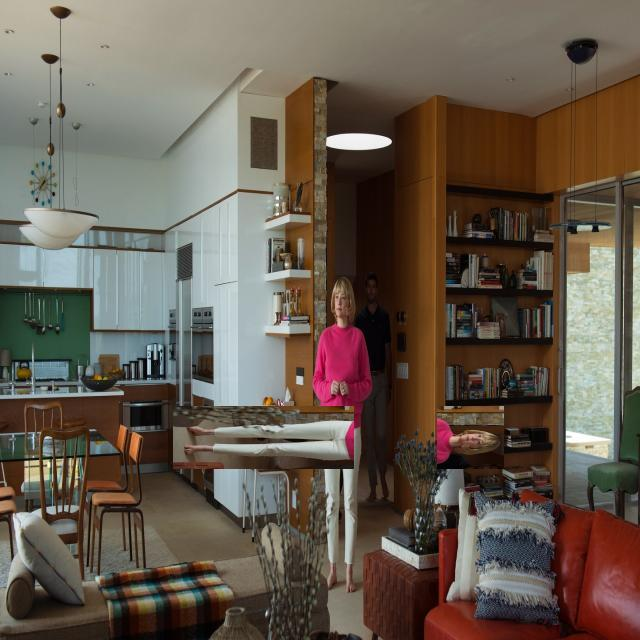NotFall: (266, 273, 411, 573)
